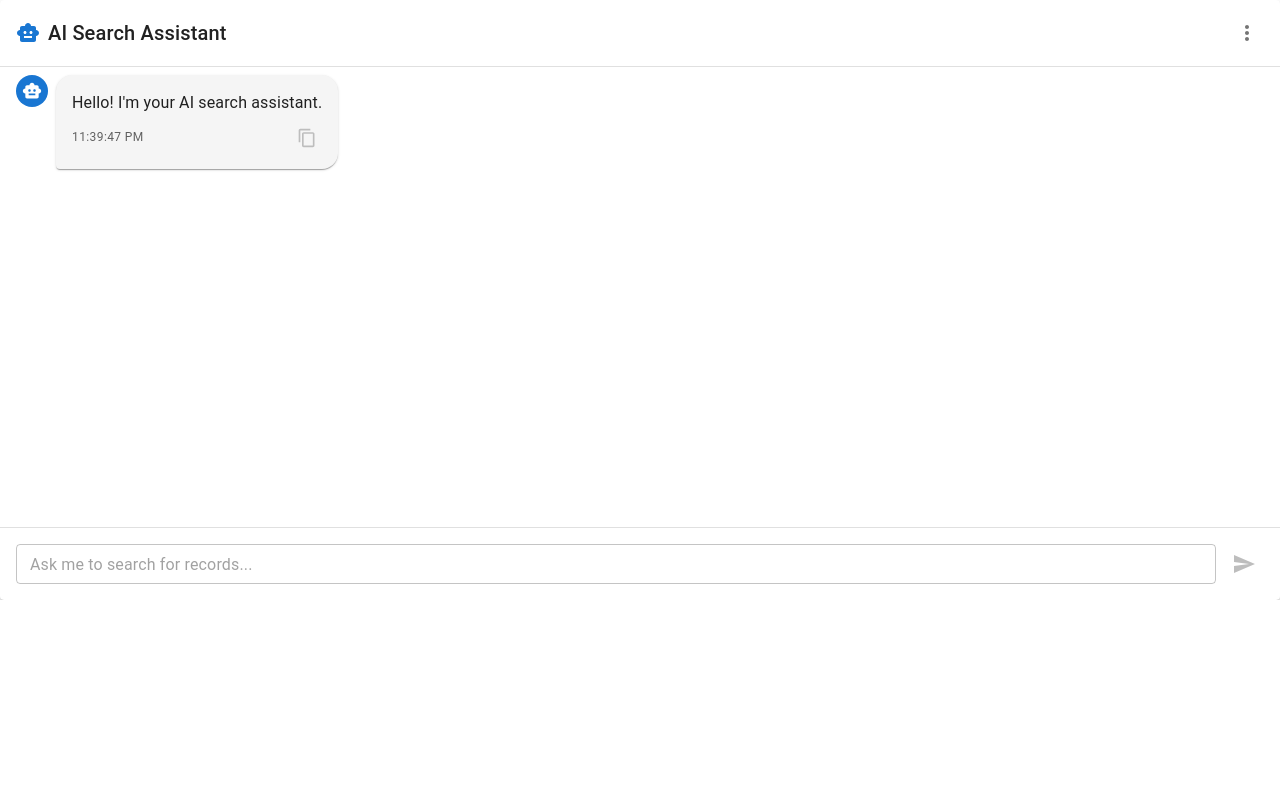
AISearchChat › displays suggestions and handles suggestion clicks
Type "Help me find documents" into the text box with placeholder "Ask me to search for records...". click: (616, 564)
box: [30, 552, 1202, 576]
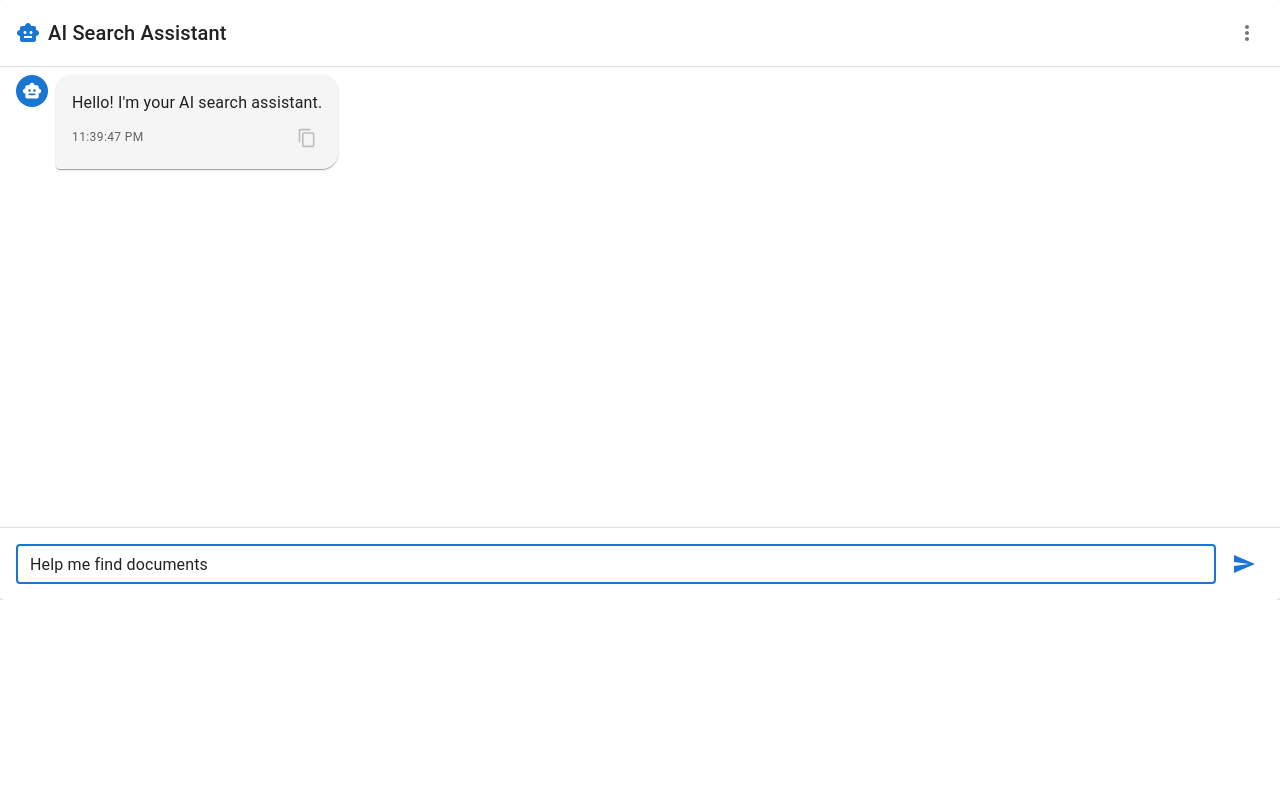
Click the button named "send". click: (1244, 564)
box: [1224, 544, 1264, 584]
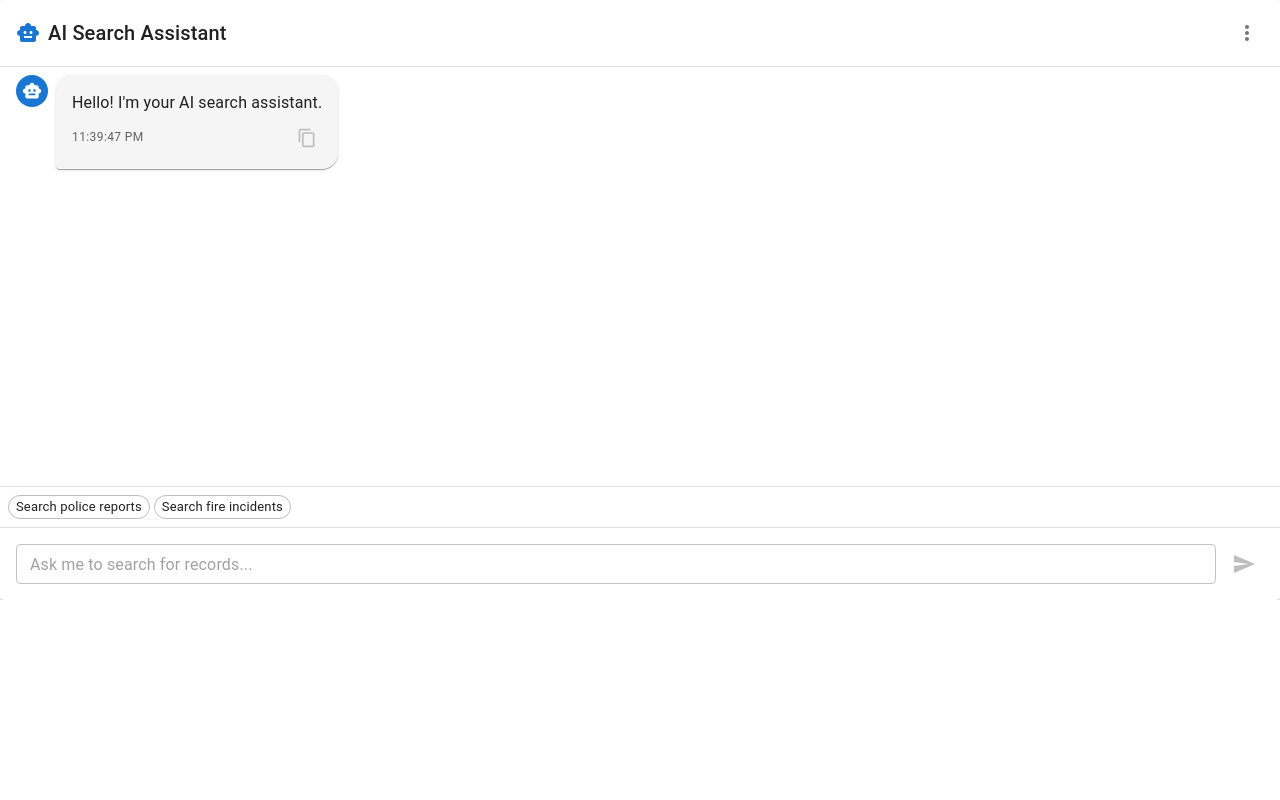
Check: the text "Search police reports" is shown, box [9, 497, 149, 517]
Check: the text "Search fire incidents" is shown, box [155, 497, 290, 517]
Note: Click on a suggestion
Click the button "Search police reports". click: (79, 507)
box: [8, 495, 150, 519]
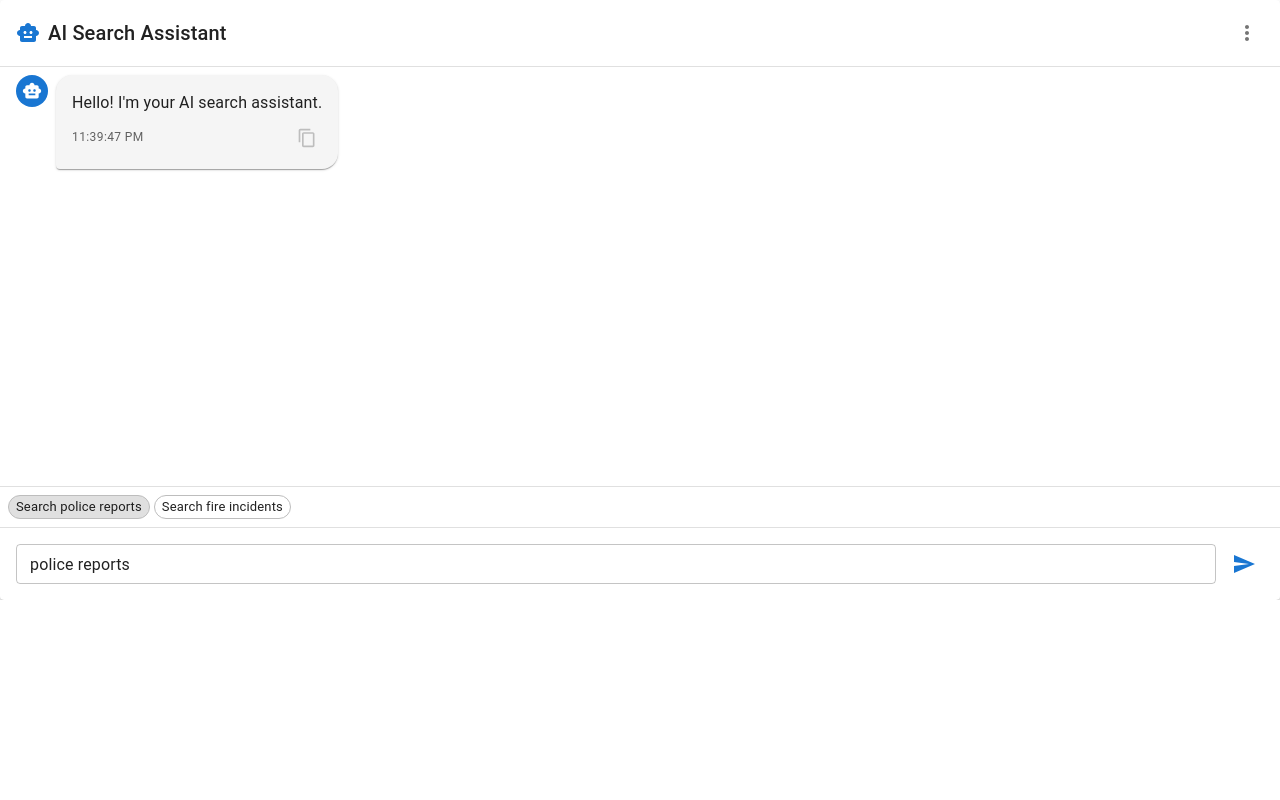
Check: the text box with placeholder "Ask me to search for records..." holds "police reports", box [30, 552, 1202, 576]
